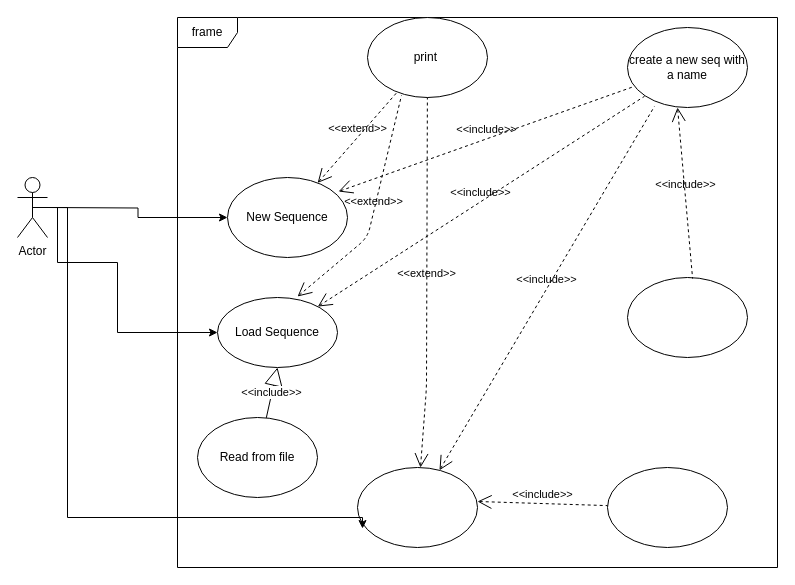
Some shapes in this 795 by 585 pixel diagram are drawn without their labels. The shapes that lost their labels are listed below. From the top down, each one's centre as x and y in pixels, then its label:
the point at 687,317: provide a defulte name
the point at 417,507: Duplication Sequence
the point at 667,507: Copy sequence
